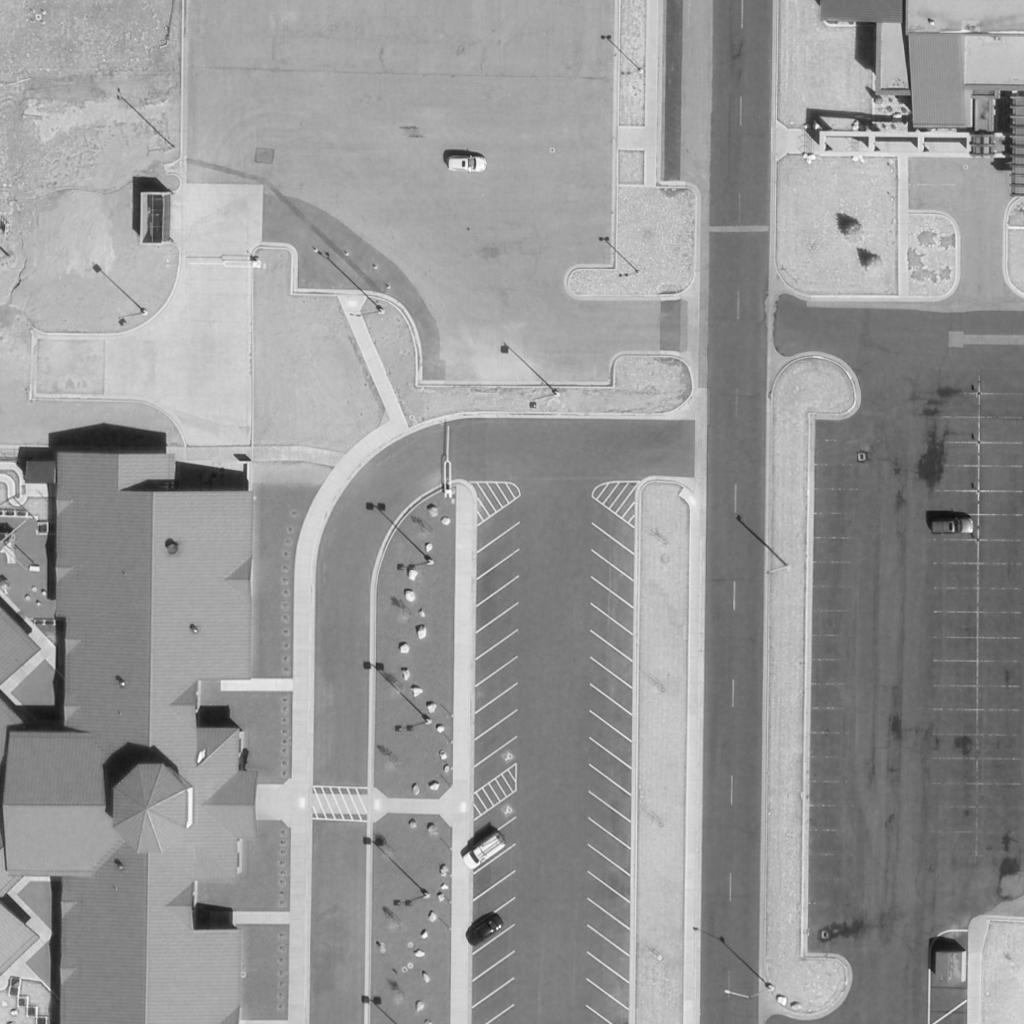vehicle: (461, 833, 507, 871), (464, 912, 504, 950), (446, 156, 488, 174), (931, 520, 975, 534)
